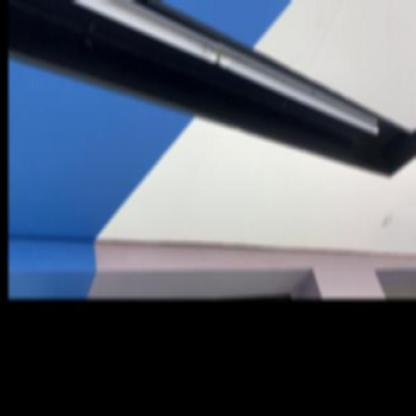light_off: (39, 0, 385, 147)
